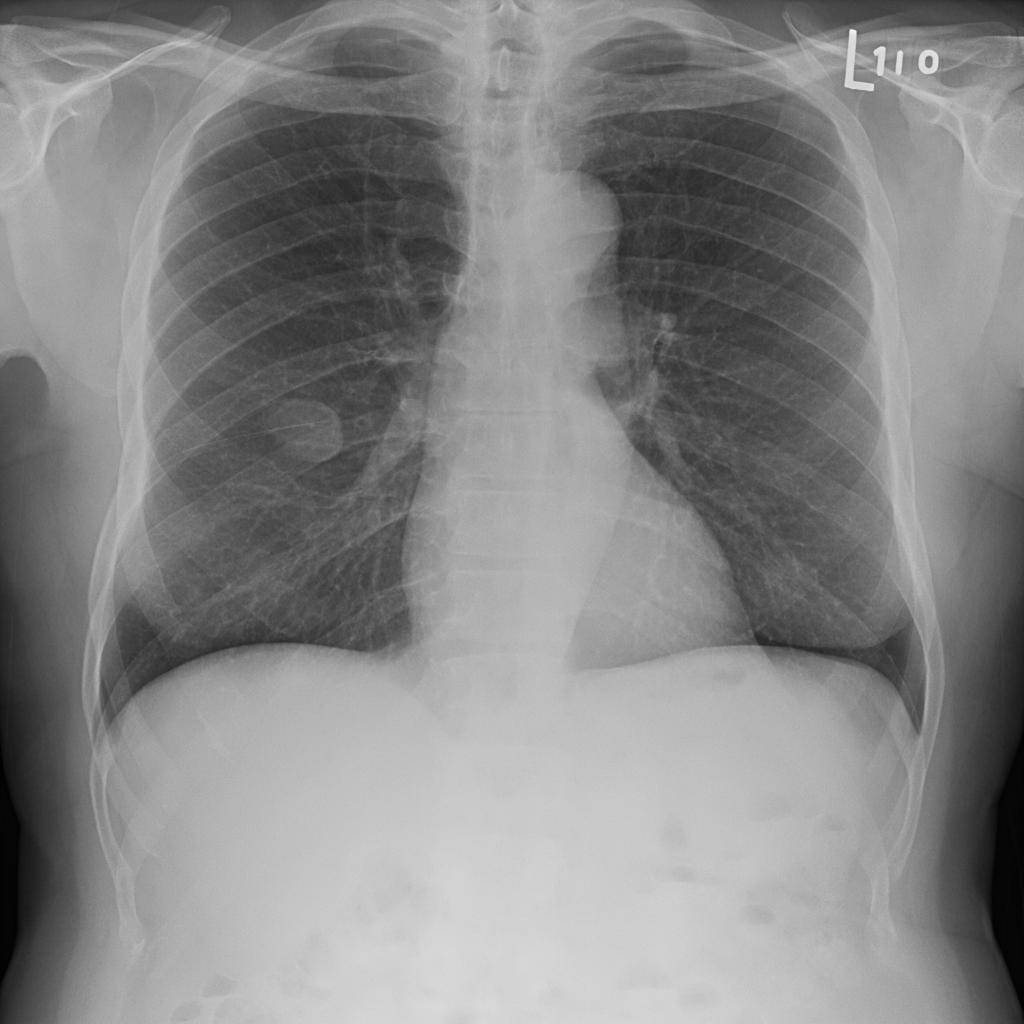Nodule: (140, 202, 173, 235)
